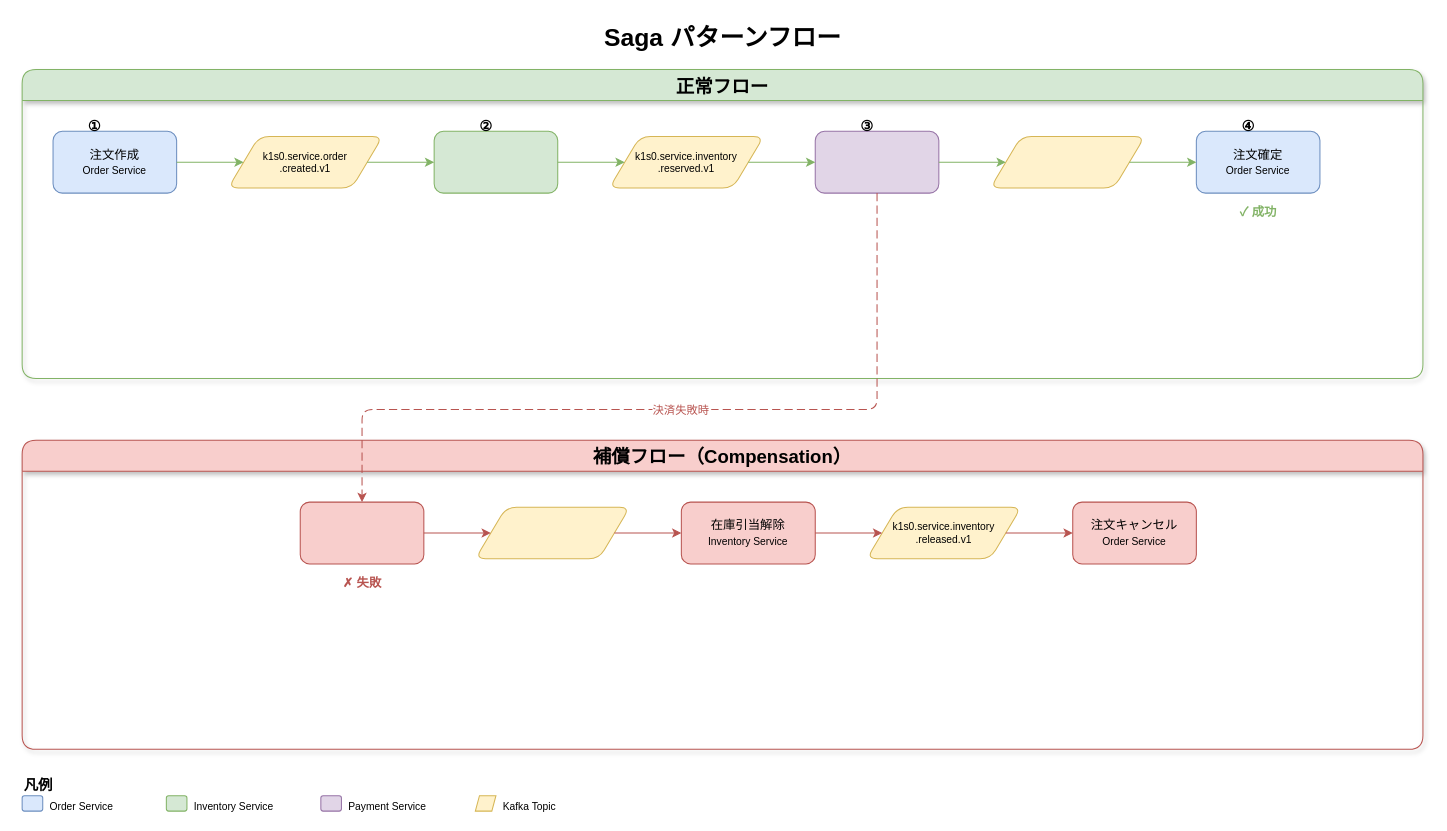
The diagram is 1447 pixels wide and 831 high, and some of its shapes have lost their labels. Each missing label, with the centre of its shape:
"k1s0.service.payment .completed.v1" goes at point (1067, 161).
"k1s0.service.payment .failed.v1" goes at point (552, 532).
"在庫引当 Inventory Service" goes at point (495, 161).
"決済処理 Payment Service" goes at point (876, 161).
"決済失敗 Payment Service" goes at point (361, 532).
